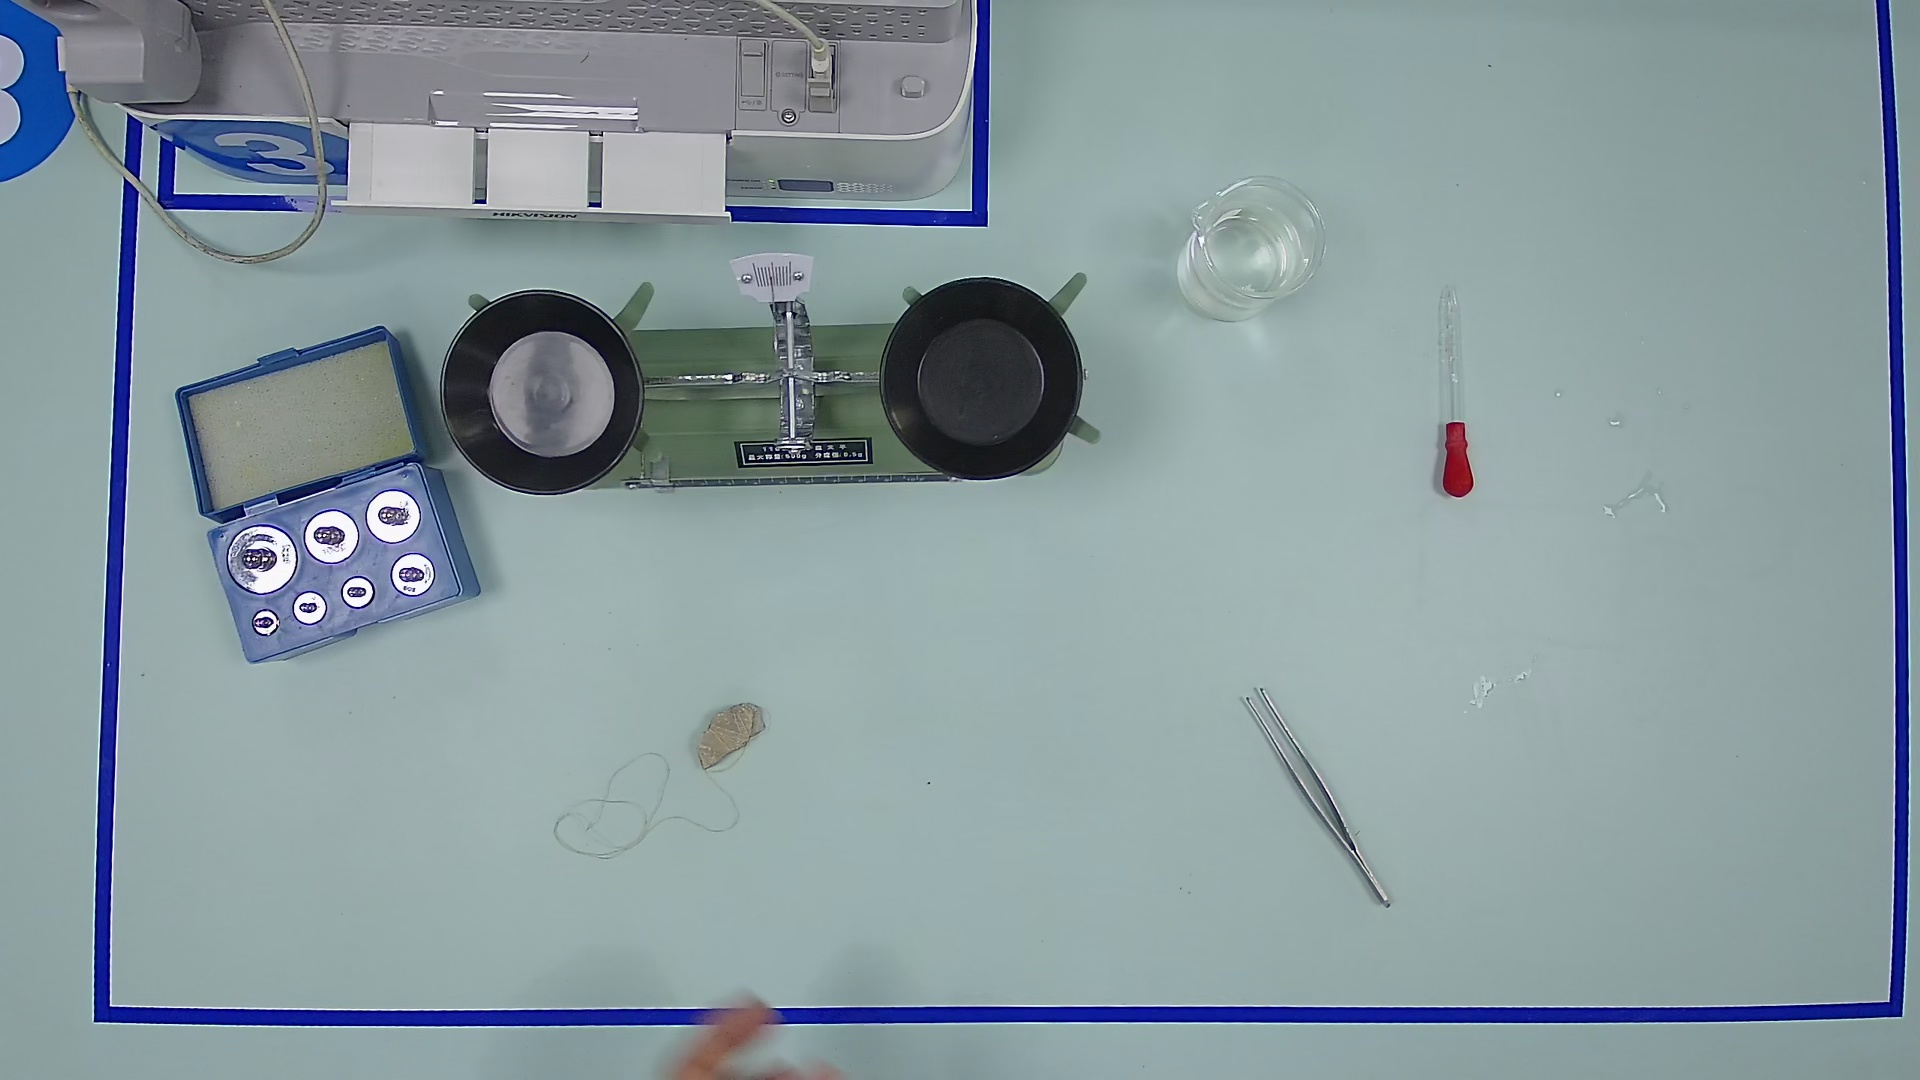bei: (1168, 165, 1332, 327)
diguan: (1414, 270, 1494, 504)
diguantou: (1429, 414, 1487, 506)
fama: (224, 522, 298, 597), (299, 509, 360, 566), (361, 488, 422, 545), (389, 549, 435, 599), (291, 589, 330, 626), (339, 576, 376, 612), (251, 607, 282, 640)
gan: (617, 444, 951, 516)
he: (186, 417, 477, 649)
niezi: (1225, 673, 1422, 940)
pointer: (733, 249, 814, 299)
shi: (684, 694, 773, 778)
tuo: (423, 260, 663, 502), (872, 266, 1098, 498)
you: (644, 454, 679, 500)
